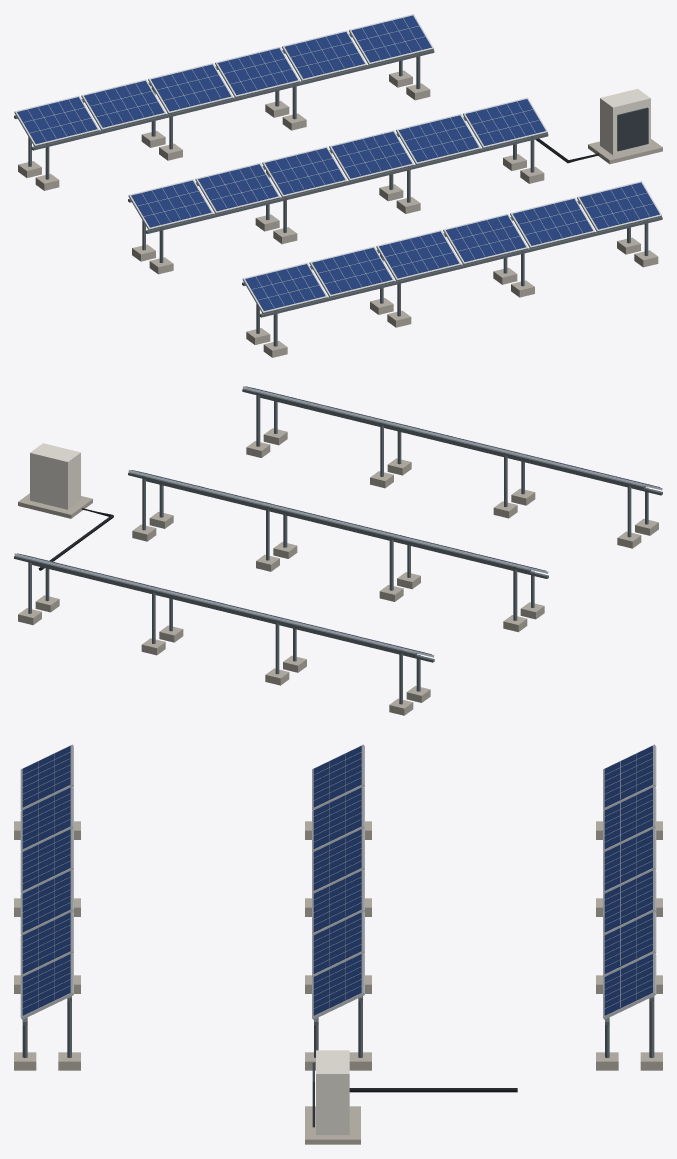
The model's file is RURAL_09.obj.
3 renders of one model, top to bottom at view 1: azimuth 30°, elevation 25°; view 2: azimuth 150°, elevation 25°; view 3: azimuth 270°, elevation 25°, orthographic. The views are drawn at different scales.
Visible parts, largest first — view 1: panels_row2, panels_row3, panels_row1, inverter, bases_row2, bases_row1, bases_row3, panel_cells_row3, panel_cells_row2, panel_cells_row1, rails_row3, rails_row1 (+5 smaller); view 2: inverter, bases_row3, bases_row2, bases_row1, rails_row1, rails_row2, rails_row3, supports_row2, supports_row3, supports_row1, panels_row3, panels_row2 (+2 smaller); view 3: panels_row3, panels_row1, panels_row2, inverter, panel_cells_row2, panel_cells_row1, panel_cells_row3, bases_row1, bases_row3, bases_row2, inverter_pad, conduit.
Part boxes in pixels (box(x1,y1,x2,y2)): panels_row2: box(128, 97, 547, 230); panels_row3: box(242, 181, 661, 313); panels_row1: box(14, 14, 433, 146); inverter: box(600, 88, 650, 155); bases_row2: box(132, 154, 544, 274); bases_row1: box(18, 70, 430, 190); bases_row3: box(246, 237, 658, 357); panel_cells_row3: box(252, 185, 653, 308); panel_cells_row2: box(138, 101, 539, 224); panel_cells_row1: box(23, 18, 425, 140); rails_row3: box(242, 200, 662, 317); rails_row1: box(14, 33, 434, 150); inverter: box(30, 443, 80, 509); bases_row3: box(246, 428, 658, 548); bases_row2: box(132, 511, 544, 632); bases_row1: box(18, 595, 430, 715); rails_row1: box(14, 555, 434, 662); rails_row2: box(128, 472, 548, 578); rails_row3: box(242, 388, 662, 495); supports_row2: box(142, 475, 534, 620); supports_row3: box(256, 391, 648, 537); supports_row1: box(28, 559, 420, 704); panels_row3: box(242, 386, 662, 490); panels_row2: box(128, 470, 548, 573); panels_row3: box(20, 744, 73, 1019); panels_row1: box(603, 744, 656, 1019); panels_row2: box(312, 744, 364, 1019); inverter: box(312, 1050, 349, 1134); panel_cells_row2: box(313, 752, 361, 1008); panel_cells_row1: box(604, 752, 652, 1008); panel_cells_row3: box(22, 752, 70, 1008); bases_row1: box(596, 821, 662, 1070); bases_row3: box(14, 821, 80, 1070); bases_row2: box(305, 821, 371, 1070); inverter_pad: box(305, 1106, 360, 1144); conduit: box(349, 1088, 517, 1092).
Size of the model in its own units: 13.48 by 1.62 by 11.59.
